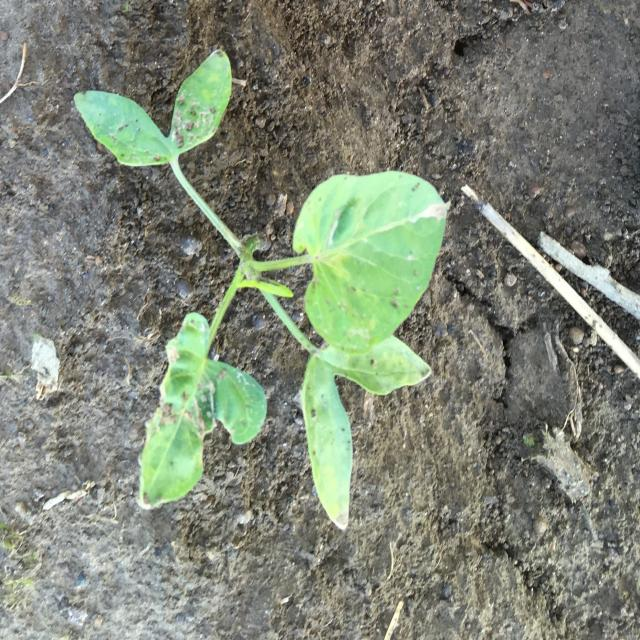MorningGlory: (73, 48, 447, 530)
